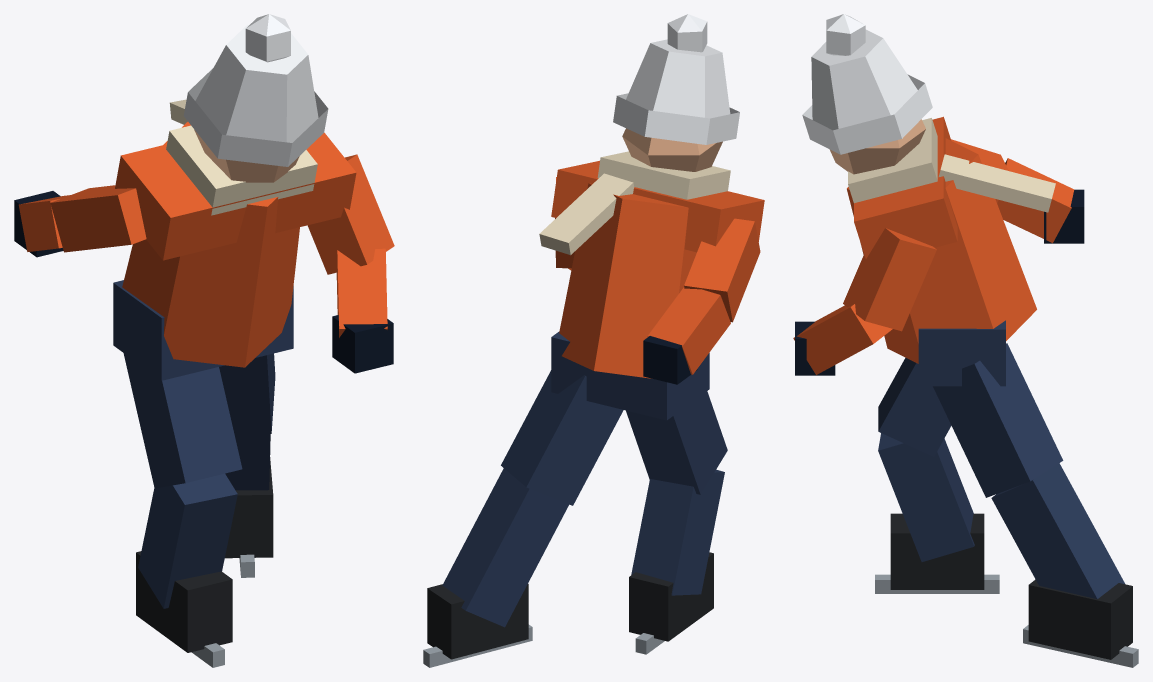
The model's file is skater.glb.
3 renders of one model, left to right at view 1: azimuth 30°, elevation 25°; view 2: azimuth 150°, elevation 25°; view 3: azimuth 270°, elevation 25°, orthographic. The views are drawn at different scales.
Visible parts, largest first — view 1: skater; view 2: skater; view 3: skater.
Boxes of the visible parts, left/top/right/bottom form: skater: left=14, top=14, right=394, bottom=667; skater: left=423, top=14, right=764, bottom=667; skater: left=793, top=14, right=1138, bottom=667.
Size of the model in its own units: 0.9361 by 2.1 by 1.11.
